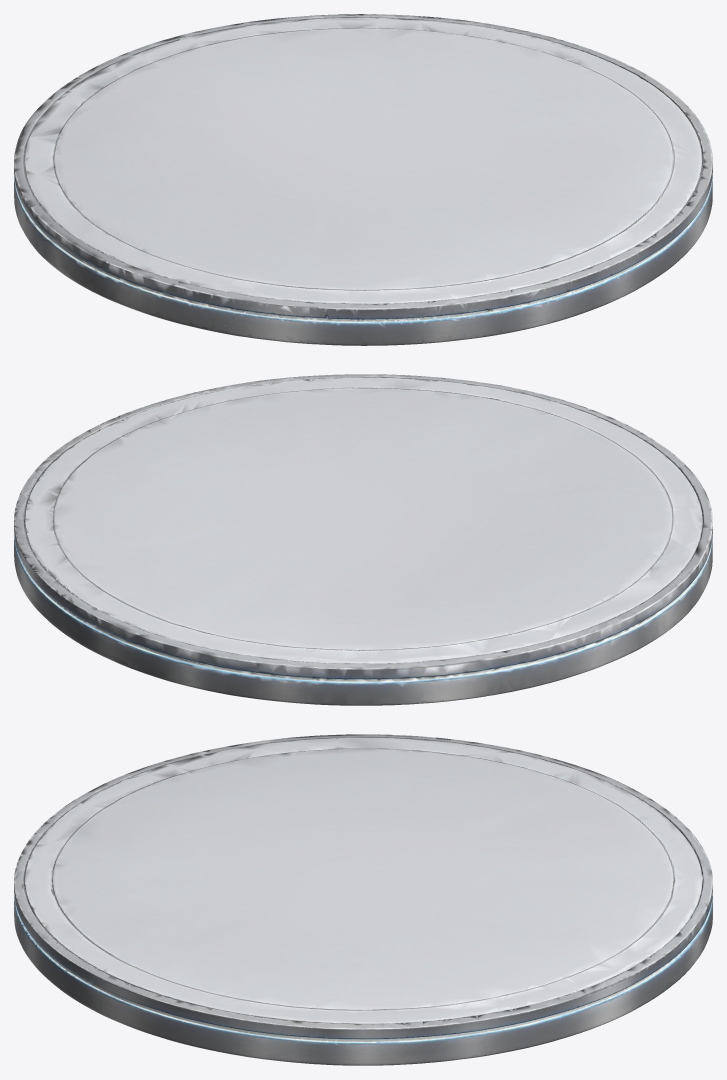
Rendered from bm-env-observation-platform-web-v001.glb.
3 views of the same model, one above another, from view 1: azimuth 30°, elevation 25°; view 2: azimuth 150°, elevation 25°; view 3: azimuth 270°, elevation 25° (orthographic).
Visible parts, largest first — view 1: tripo_node_029b270e-e4fa-4bc1-b518-3d9cab4260d0; view 2: tripo_node_029b270e-e4fa-4bc1-b518-3d9cab4260d0; view 3: tripo_node_029b270e-e4fa-4bc1-b518-3d9cab4260d0.
Boxes of the visible parts, x1,y1,x2,y2 form: tripo_node_029b270e-e4fa-4bc1-b518-3d9cab4260d0: (14, 14, 712, 345); tripo_node_029b270e-e4fa-4bc1-b518-3d9cab4260d0: (14, 374, 712, 705); tripo_node_029b270e-e4fa-4bc1-b518-3d9cab4260d0: (14, 734, 712, 1065).
Bounding box in the file's own units: 0.9791 × 0.0695 × 0.9797.
Materials: 1 (1 with a texture image).
